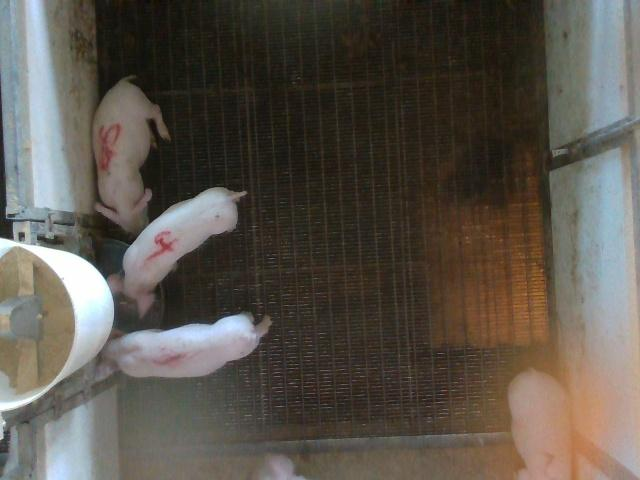pig-4: (108, 188, 246, 317), (98, 312, 270, 378)
pig-5: (92, 75, 170, 234)
